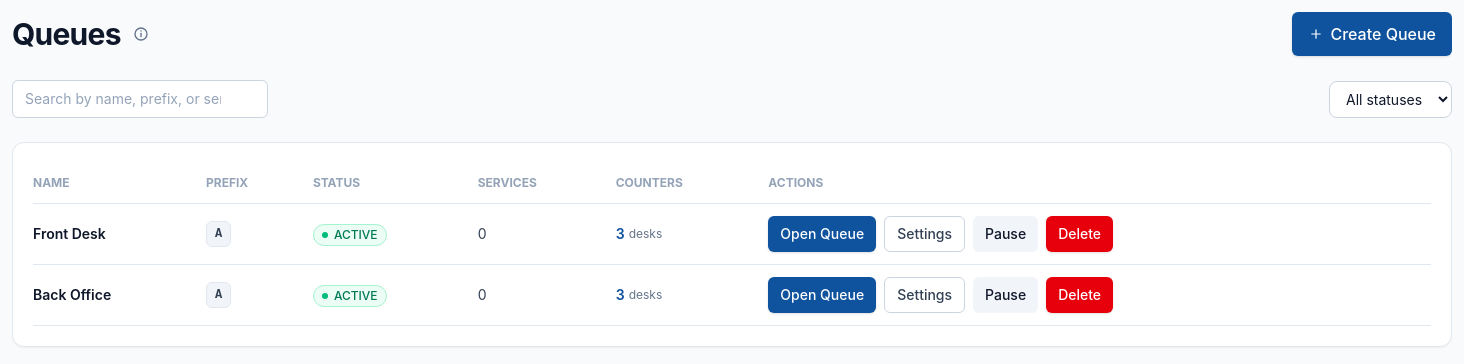
it: QueuesPage — search › filters by queue name and hides non-matching queues
Type "front" into the search field named "Search queues".
click(140, 99); type("front")  # box [12,80,268,118]
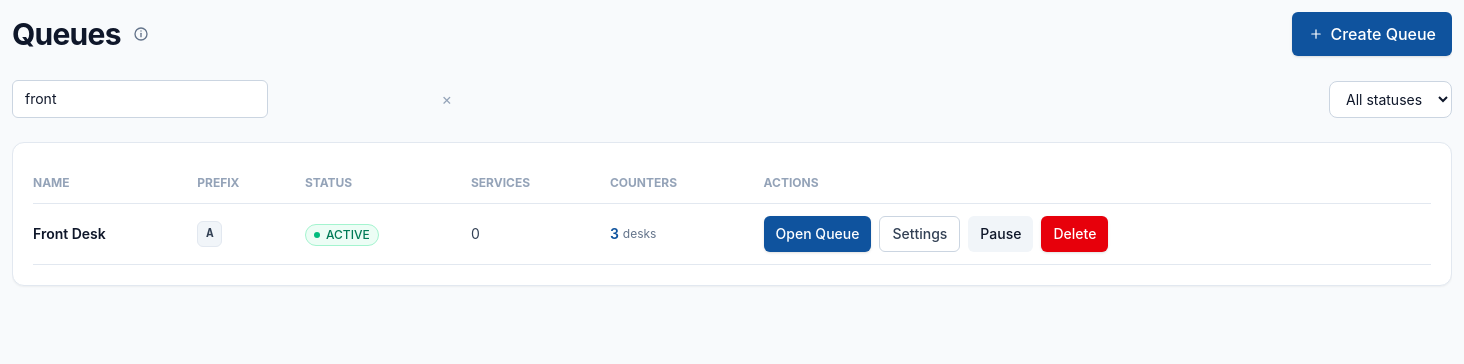
Expected: the link "Front Desk" is shown, [33,225,106,242]
Expected: the link "Back Office" is gone
